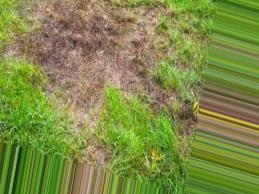patch: (44, 2, 121, 82)
